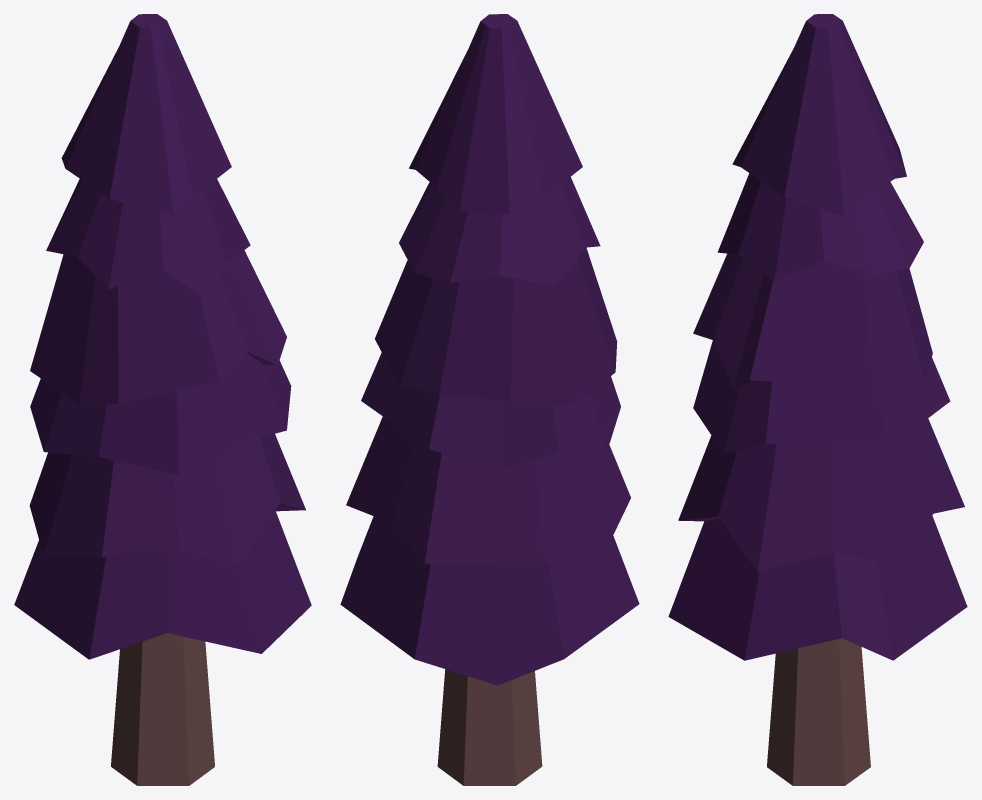
Rendered from pinetree2.fbx.
3 renders of one model, left to right at view 1: azimuth 30°, elevation 25°; view 2: azimuth 150°, elevation 25°; view 3: azimuth 270°, elevation 25°, orthographic.
Visible parts, largest first — view 1: Cylinder.004, Cylinder.001, Cylinder.002, Cylinder.006, Cylinder.003, Cylinder.005, pinetree1; view 2: Cylinder.001, Cylinder.004, Cylinder.002, Cylinder.006, Cylinder.003, Cylinder.005, pinetree1; view 3: Cylinder.002, Cylinder.001, Cylinder.004, Cylinder.006, Cylinder.003, Cylinder.005, pinetree1.
Boxes of the visible parts, x1,y1,x2,y2 form: Cylinder.004: [30, 250, 286, 404]; Cylinder.001: [14, 510, 311, 659]; Cylinder.002: [29, 434, 305, 565]; Cylinder.006: [61, 14, 231, 214]; Cylinder.003: [30, 353, 291, 475]; Cylinder.005: [46, 179, 250, 295]; pinetree1: [111, 633, 214, 785]; Cylinder.001: [340, 516, 639, 685]; Cylinder.004: [375, 247, 617, 406]; Cylinder.002: [346, 416, 630, 563]; Cylinder.006: [409, 14, 582, 214]; Cylinder.003: [361, 352, 620, 470]; Cylinder.005: [399, 177, 600, 285]; pinetree1: [437, 669, 542, 785]; Cylinder.002: [678, 418, 964, 571]; Cylinder.001: [668, 515, 967, 660]; Cylinder.004: [693, 253, 932, 389]; Cylinder.006: [732, 14, 906, 216]; Cylinder.003: [693, 340, 950, 453]; Cylinder.005: [717, 173, 923, 280]; pinetree1: [767, 638, 870, 785].
Bounding box in the file's own units: 318 × 955 × 349.
